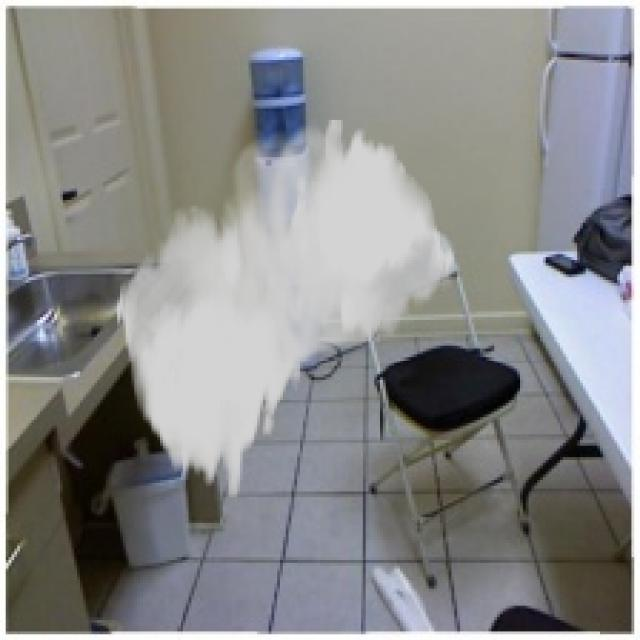smoke: (114, 117, 457, 497)
